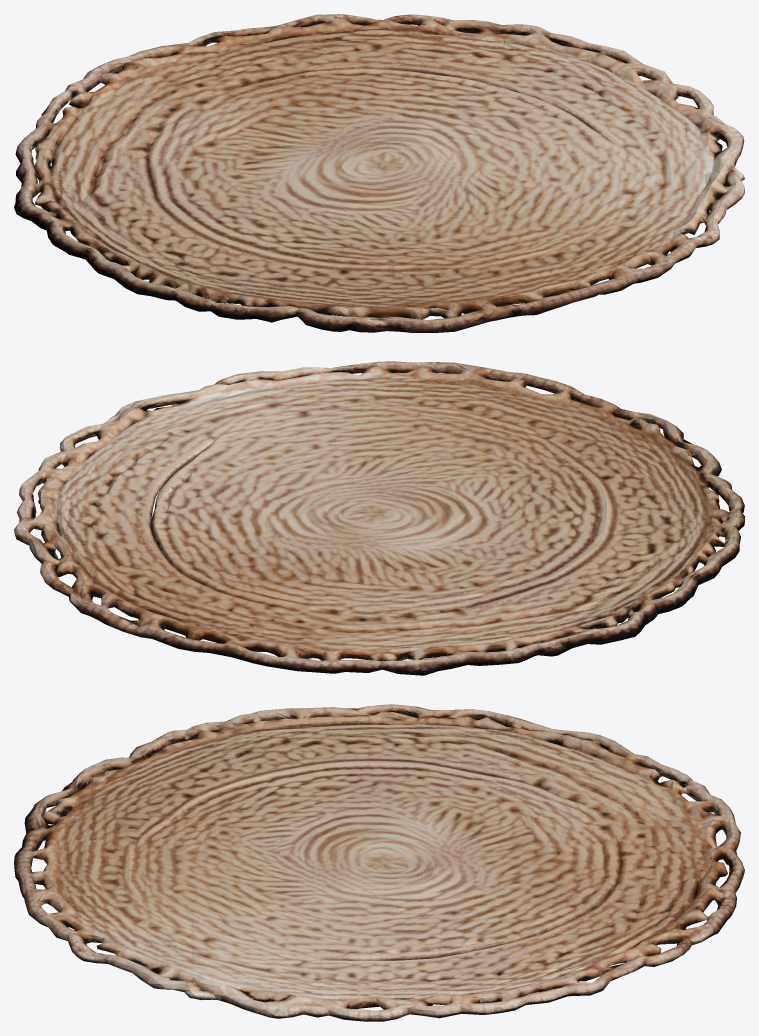
File: natural-fiber-table-mat-new-style.jpeg.glb
The picture shows the model from 3 angles, top to bottom: view 1: azimuth 30°, elevation 25°; view 2: azimuth 150°, elevation 25°; view 3: azimuth 270°, elevation 25°; orthographic projection.
Parts seen in each view (by area): view 1: world; view 2: world; view 3: world.
Part boxes in pixels (left/top/right/bottom): world: left=14, top=14, right=744, bottom=332; world: left=14, top=361, right=744, bottom=675; world: left=14, top=704, right=744, bottom=1021.
Bounding box in the file's own units: 0.9949 × 0.0239 × 0.9902.
1 material, 1 textured.
